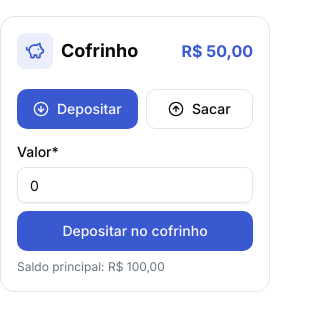
Test: SafeBalanceBox › changes mode to withdraw
Click the button "Sacar".
click(199, 109)  # box left=146, top=89, right=253, bottom=129
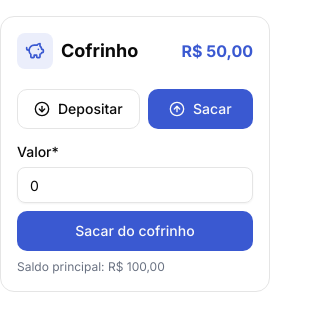
Now the button "Sacar do cofrinho" is shown, box left=17, top=211, right=253, bottom=251
